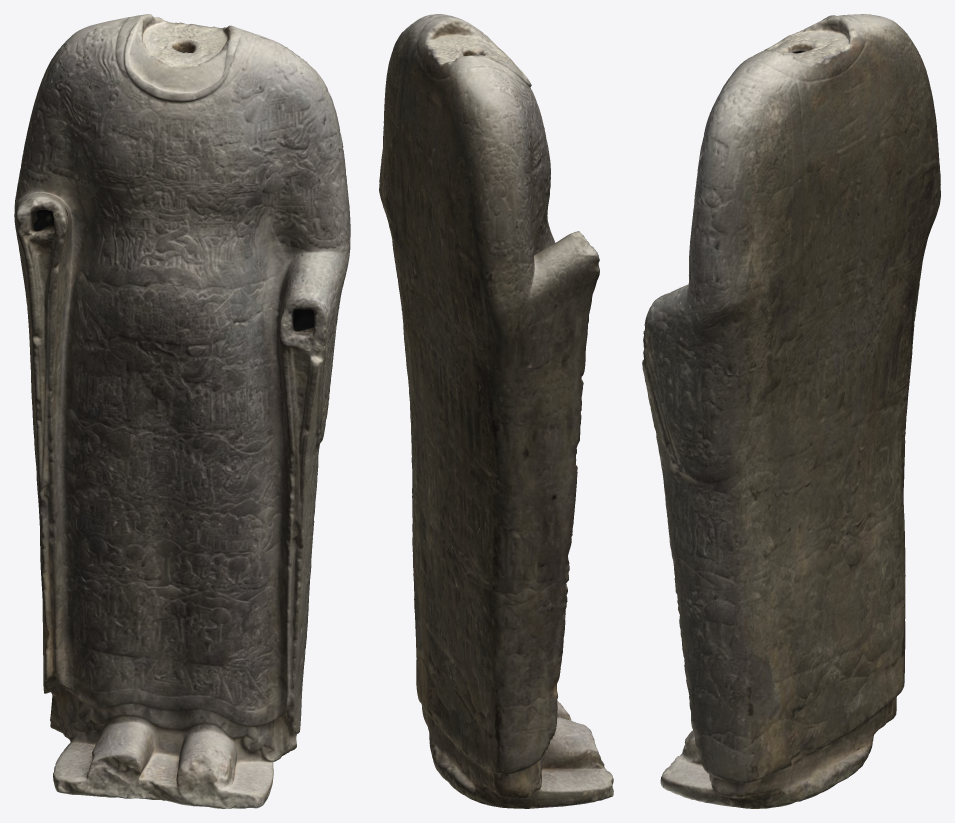
File: cosmic_buddha.glb
3 views of the same model, side by side, from view 1: azimuth 30°, elevation 25°; view 2: azimuth 150°, elevation 25°; view 3: azimuth 270°, elevation 25° (orthographic). The views are drawn at different scales.
Visible parts, largest first — view 1: statue; view 2: statue; view 3: statue.
Part boxes in pixels (x1,y1,x2,y2): statue: (14, 14, 350, 808); statue: (379, 14, 613, 808); statue: (642, 14, 940, 808).
Bounding box in the file's own units: 0.1946 × 0.5 × 0.1796.
Materials: 1 (1 with a texture image).
